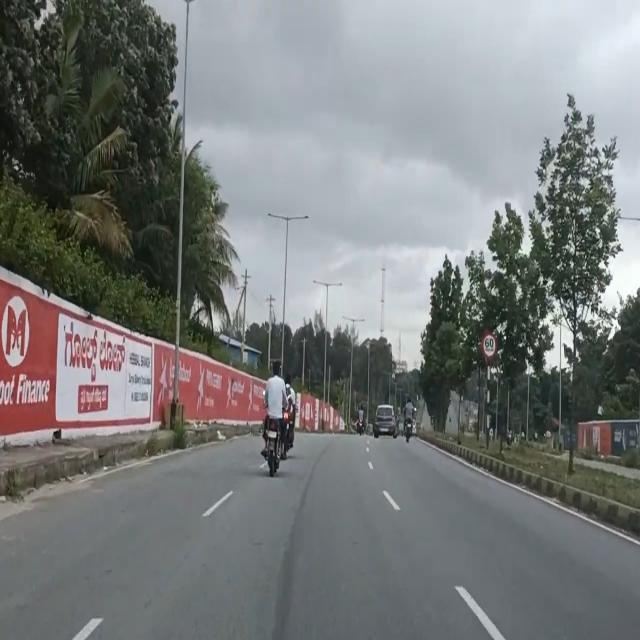bien_cam: (481, 331, 497, 361)
